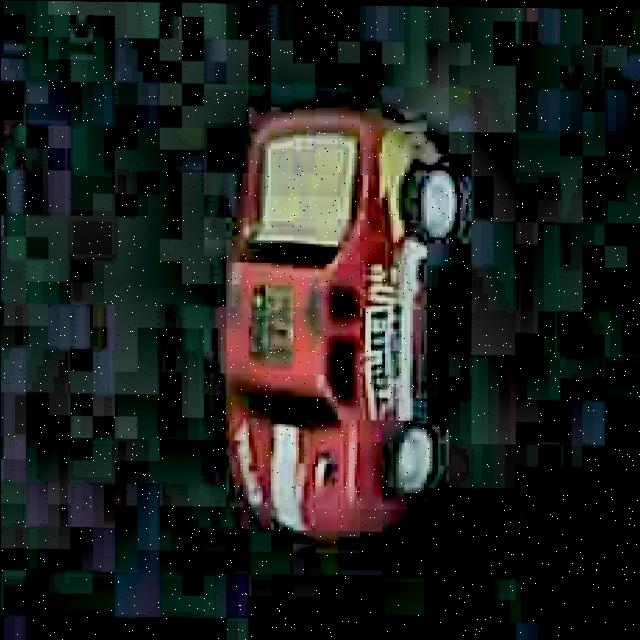car: (217, 103, 470, 537)
